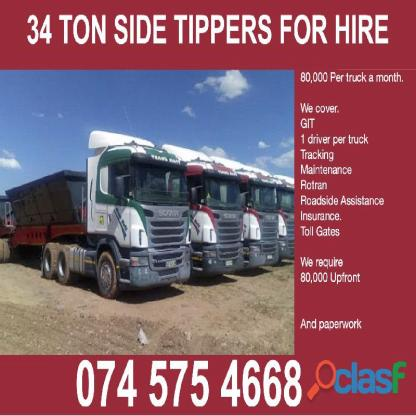dump_truck: (0, 117, 191, 310), (186, 124, 245, 294), (243, 155, 280, 285)
